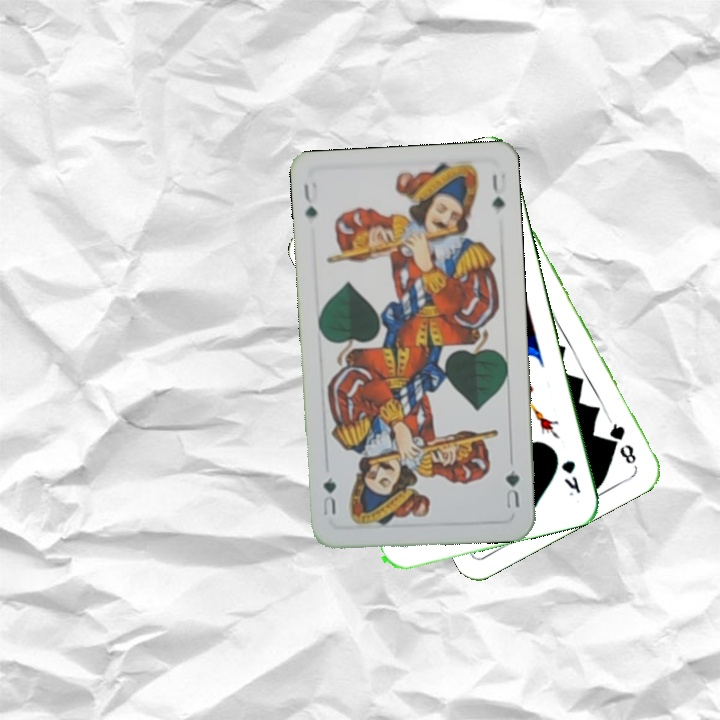G8: (604, 414, 639, 467)
GK: (557, 456, 583, 499)
GU: (501, 466, 522, 511), (300, 177, 321, 221)
